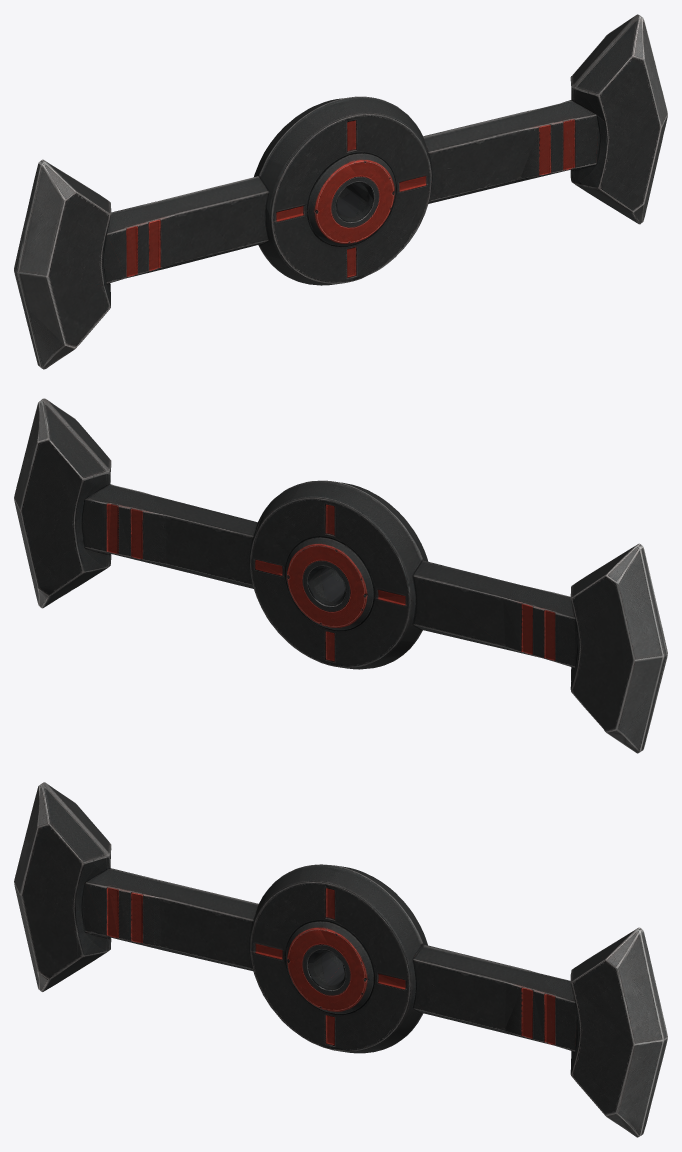
File: bar_spinner.glb
3 views of the same model, one above another, from view 1: azimuth 30°, elevation 25°; view 2: azimuth 150°, elevation 25°; view 3: azimuth 330°, elevation 25° (orthographic).
Visible parts, largest first — view 1: output_unwrapped; view 2: output_unwrapped; view 3: output_unwrapped.
Part boxes in pixels (x1,y1,x2,y2): output_unwrapped: (14,14,667,369); output_unwrapped: (14,398,667,753); output_unwrapped: (14,782,667,1137).
Bounding box in the file's own units: 1.9 × 0.5829 × 0.1463.
1 material, 1 textured.
